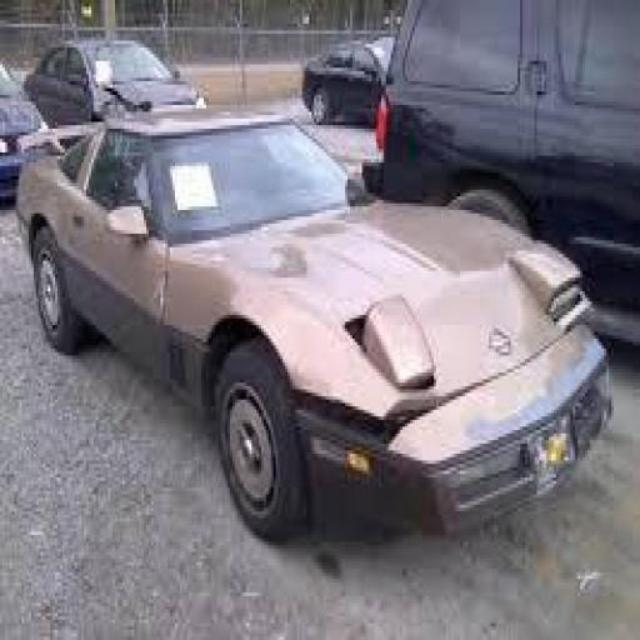dent: (470, 335, 612, 449)
dislocated part: (300, 377, 465, 461)
